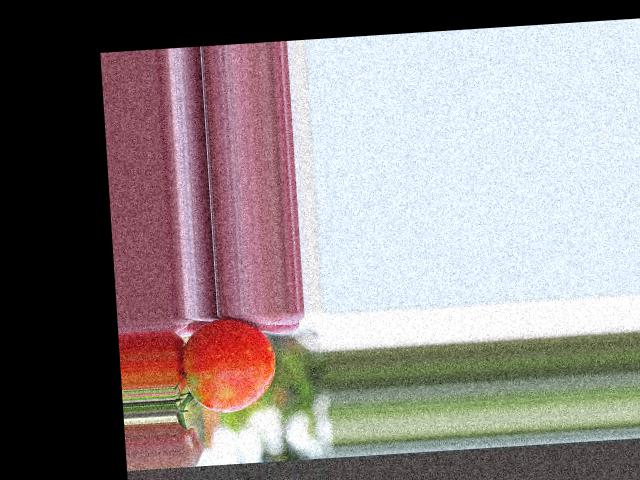tomato: (181, 316, 278, 414)
